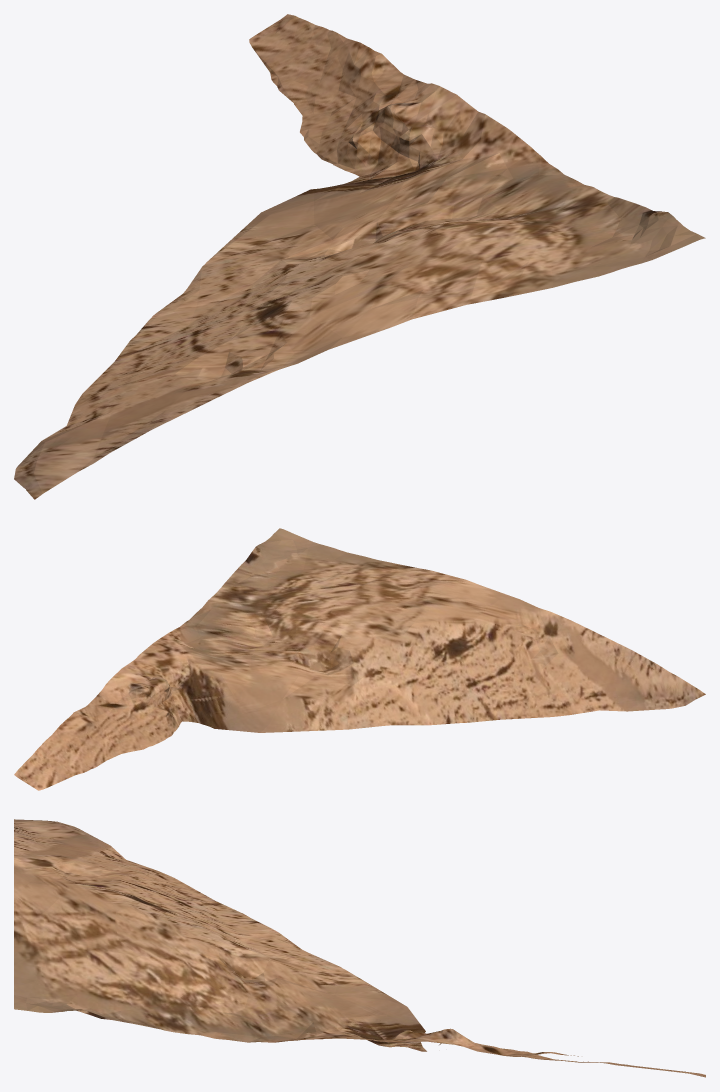
The picture shows the model from 3 angles, top to bottom: view 1: azimuth 30°, elevation 25°; view 2: azimuth 150°, elevation 25°; view 3: azimuth 270°, elevation 25°; orthographic projection. The views are drawn at different scales.
Size of the model in its own units: 1.94 by 0.2699 by 2.09.
1 material, 1 textured.
